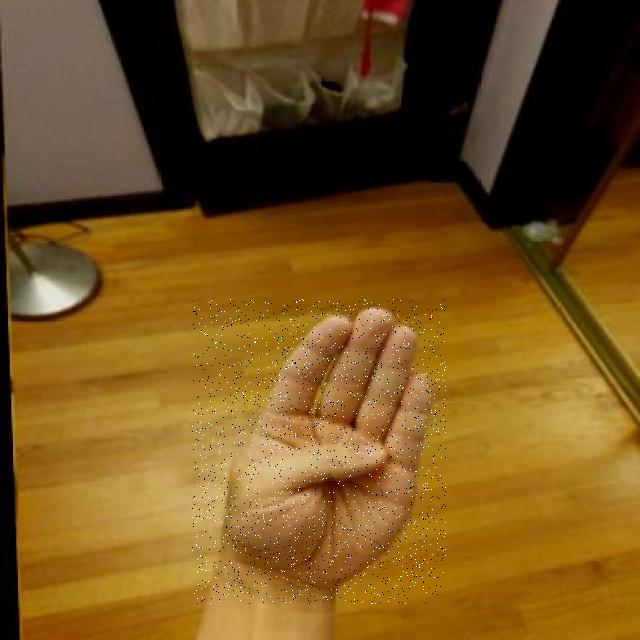B: (192, 299, 446, 604)
